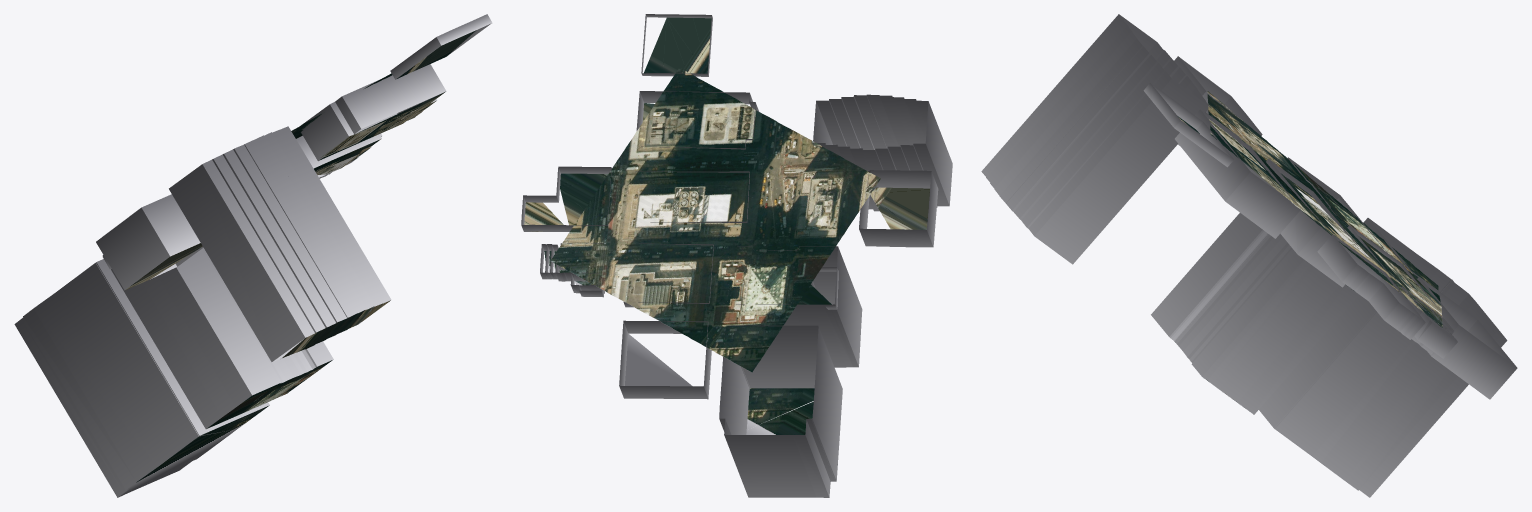
3 views of the same model, side by side, from view 1: azimuth 30°, elevation 25°; view 2: azimuth 150°, elevation 25°; view 3: azimuth 270°, elevation 25° (orthographic). The views are drawn at different scales.
Bounding box in the file's own units: 378 × 412 × 408.
1 material, 1 textured.
